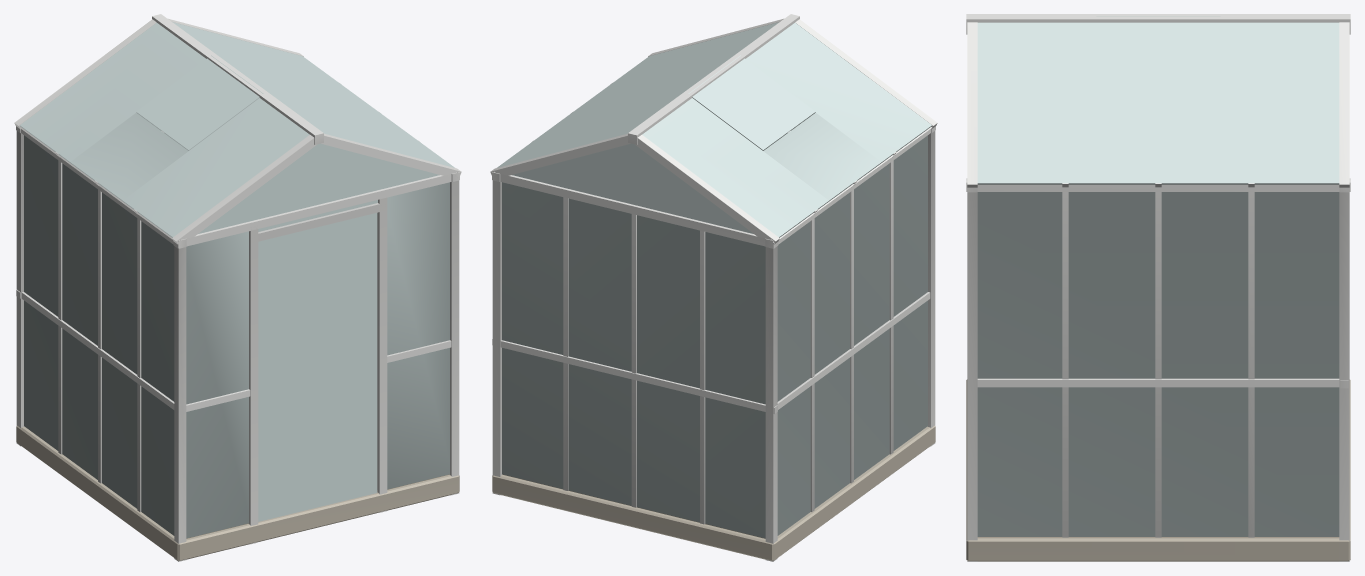
Rendered from glasshouse.glb.
3 views of the same model, side by side, from view 1: azimuth 30°, elevation 25°; view 2: azimuth 150°, elevation 25°; view 3: azimuth 270°, elevation 25° (orthographic). The views are drawn at different scales.
Parts seen in each view (by area): view 1: body, door, vent; view 2: body, vent; view 3: body.
Boxes of the visible parts, bbox=[...] form: body: bbox=[14, 14, 461, 561]; door: bbox=[258, 213, 377, 521]; vent: bbox=[136, 55, 263, 150]; body: bbox=[490, 14, 937, 561]; vent: bbox=[688, 55, 815, 150]; body: bbox=[966, 14, 1350, 561].
Bounding box in the file's own units: 1.88 × 2.48 × 1.86.
